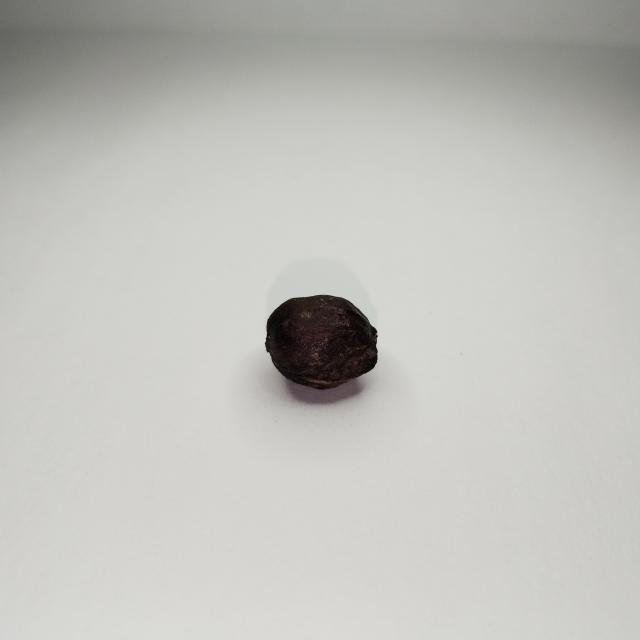Danado: (266, 294, 377, 390)
